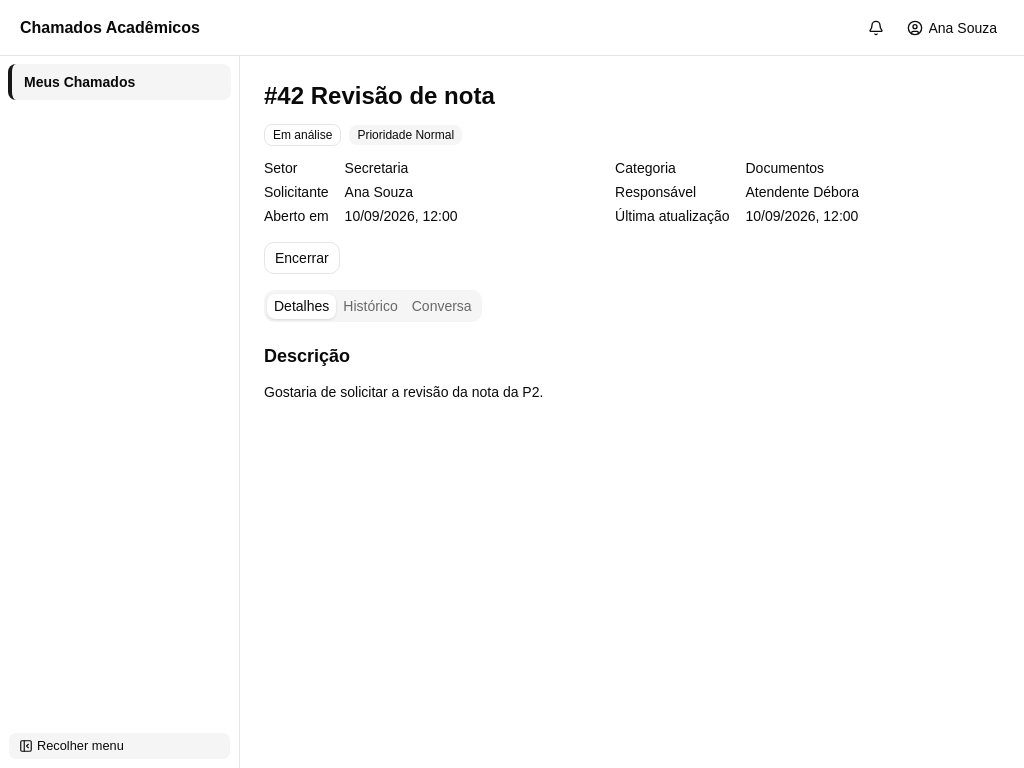
MessageComposer (Tela 5, BR2.1, BR5.2, BR5.3, BR5.7) › counts the characters and refuses a body past the limit before sending (BR2.1)
The image size is (1024, 768).
Click the tab with test id "ticket-tabs-conversation-tab" at (442, 306), box [405,294,479,318]
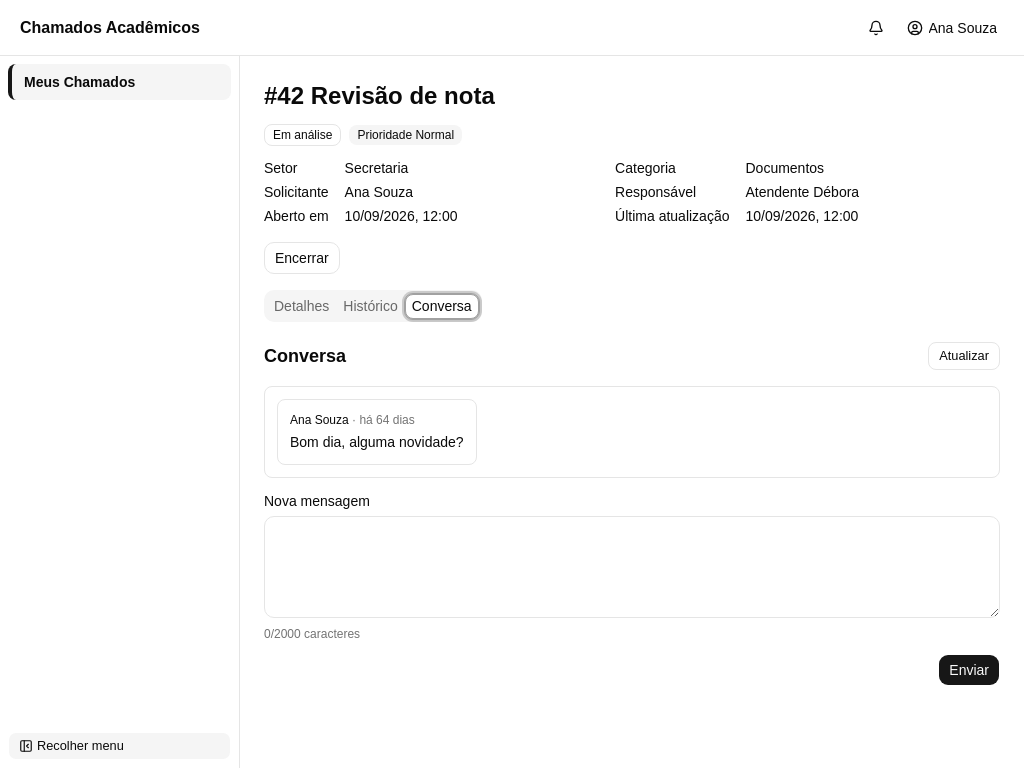
Check: the form with test id "message-composer" is shown, box [264,494,1000,686]
Type "Oi" into the text box with test id "message-composer-body-input" at (632, 567), box [264,516,1000,618]
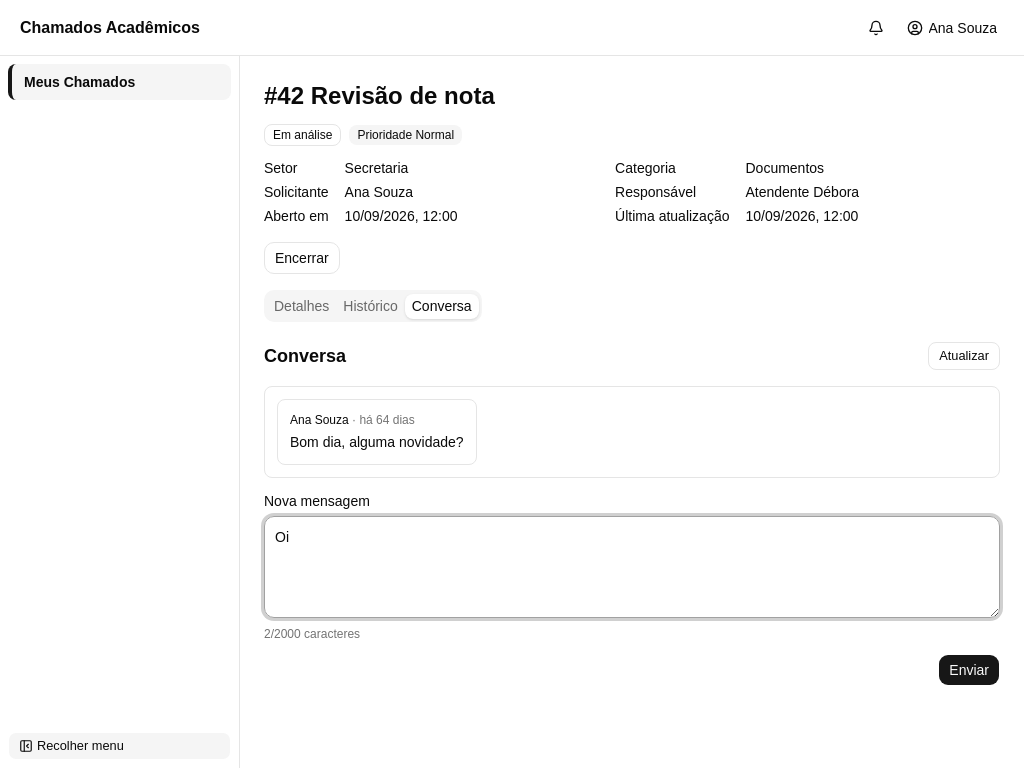
Clear the text box with test id "message-composer-body-input" at (632, 567), box [264,516,1000,618]
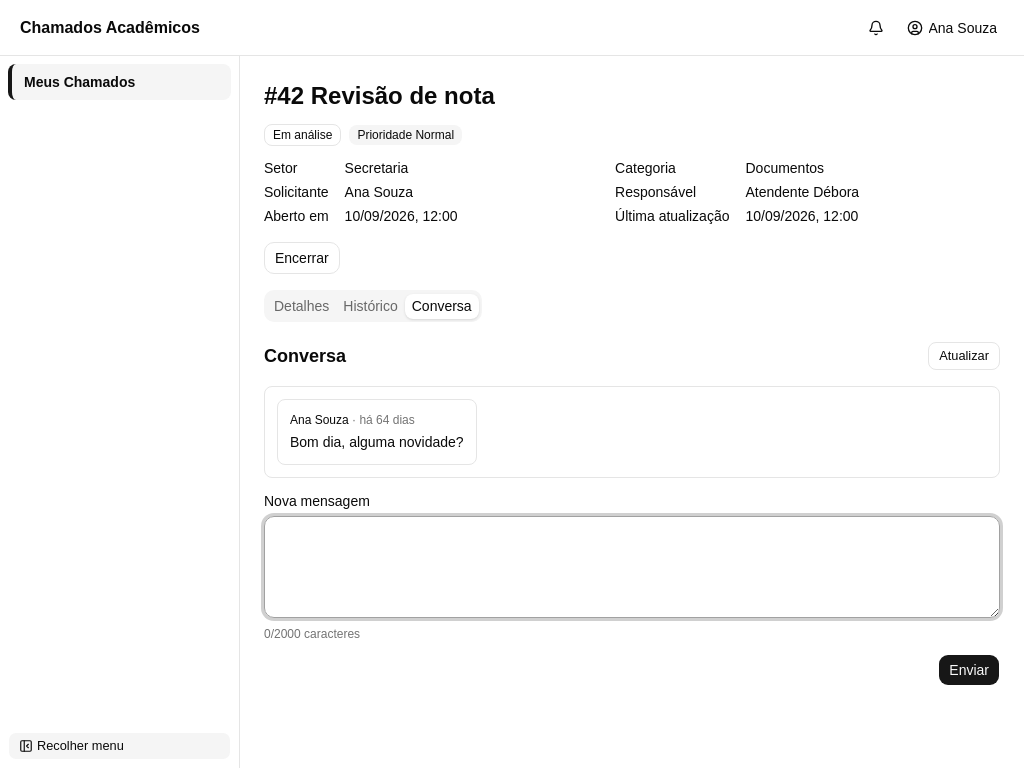
Click the button with test id "message-composer-submit-button" at (969, 670), box [938,654,1000,686]
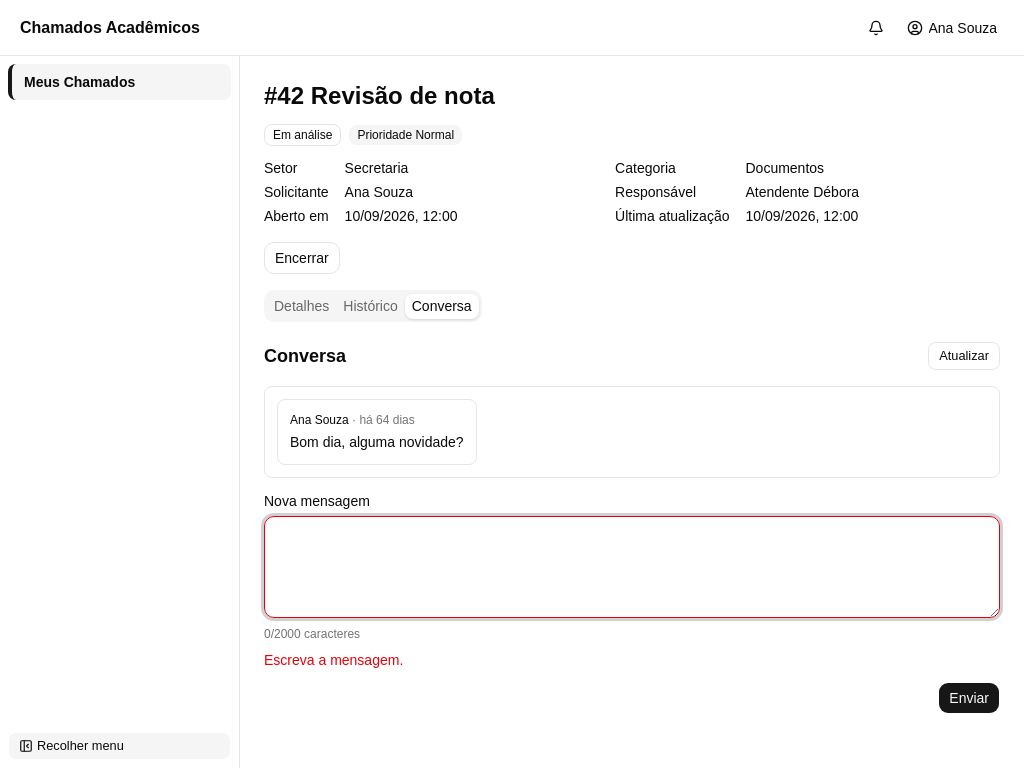
Check: the text "Escreva a mensagem." is shown, box [264,652,403,668]
